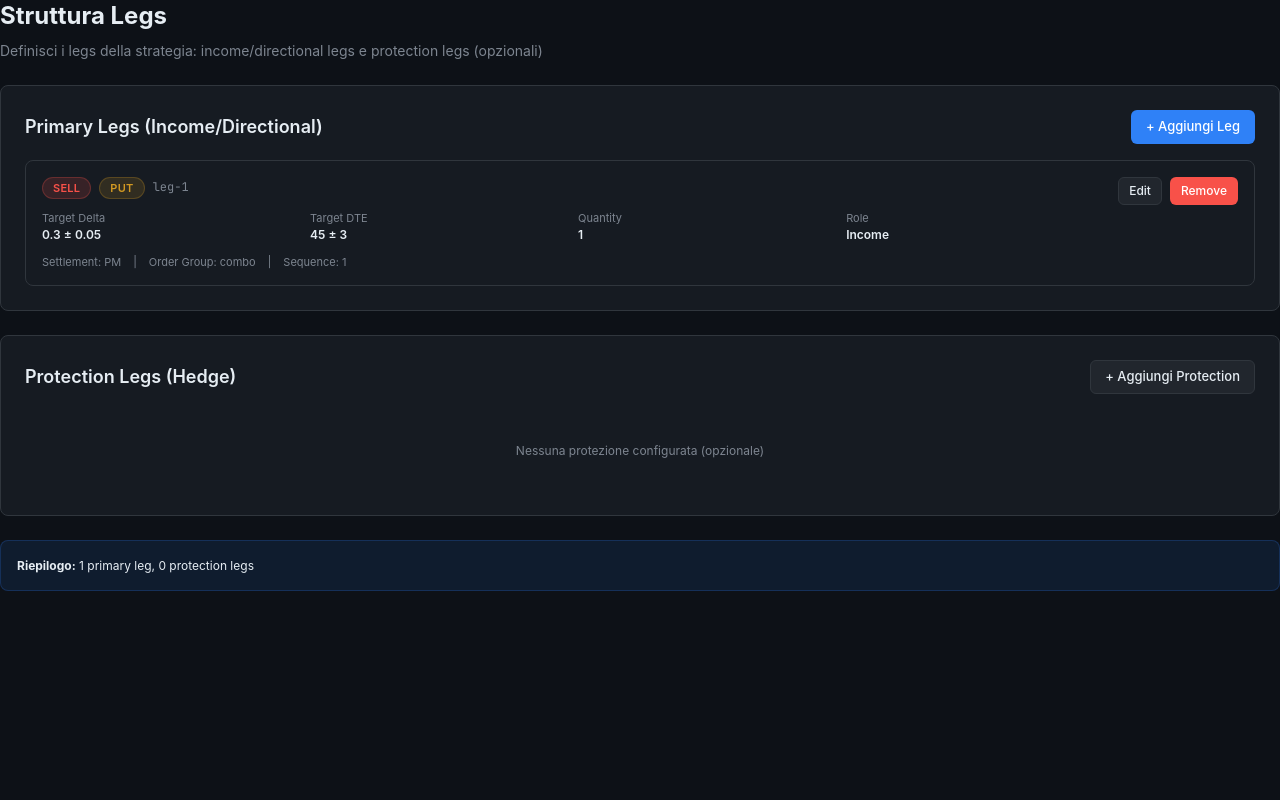
Test: LegsStep › TEST-03-06: should close LegEditor when clicking "Save"
# Open editor
Step 1. Click the button "Edit" → [1140, 190], box [1118,176,1162,204]
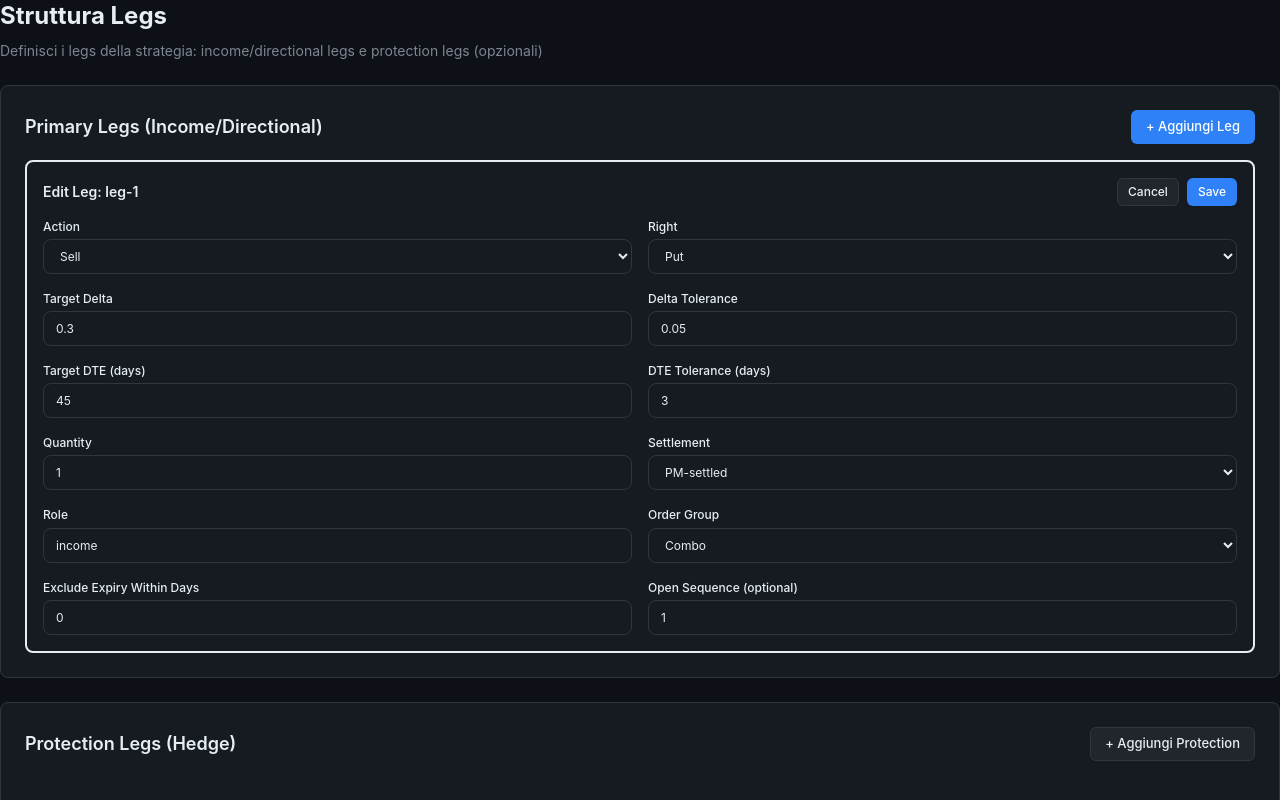
Result: the button "Save" is shown
# Click Save
Step 2. Click the button "Save" → [1212, 192], box [1187,178,1237,206]
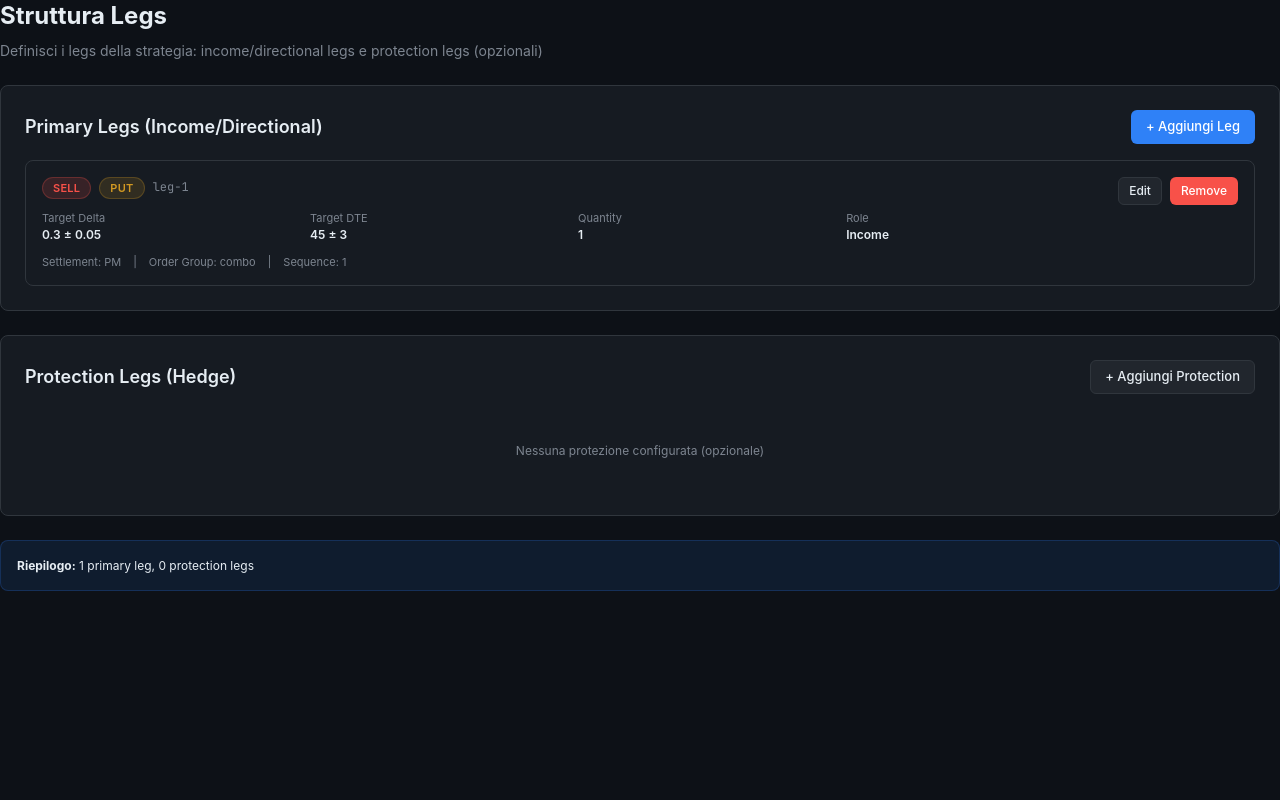
Result: the button "Save" is gone
Result: the button "Edit" is shown at [1118,176,1162,204]
